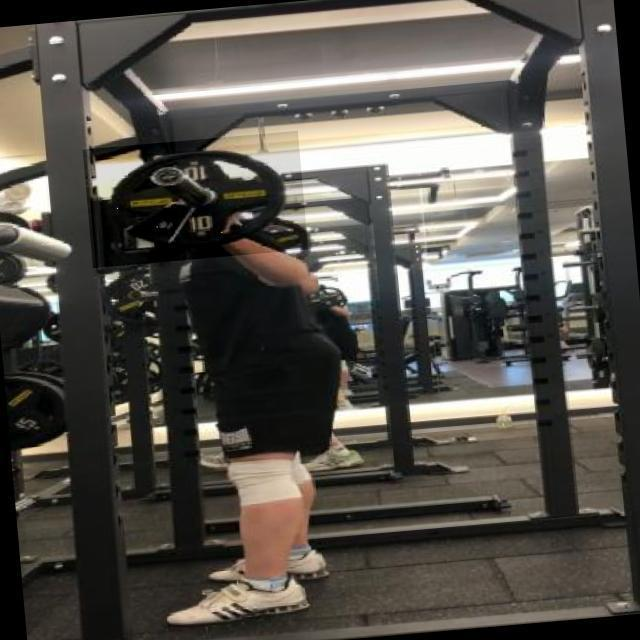barbell: (83, 132, 309, 269)
